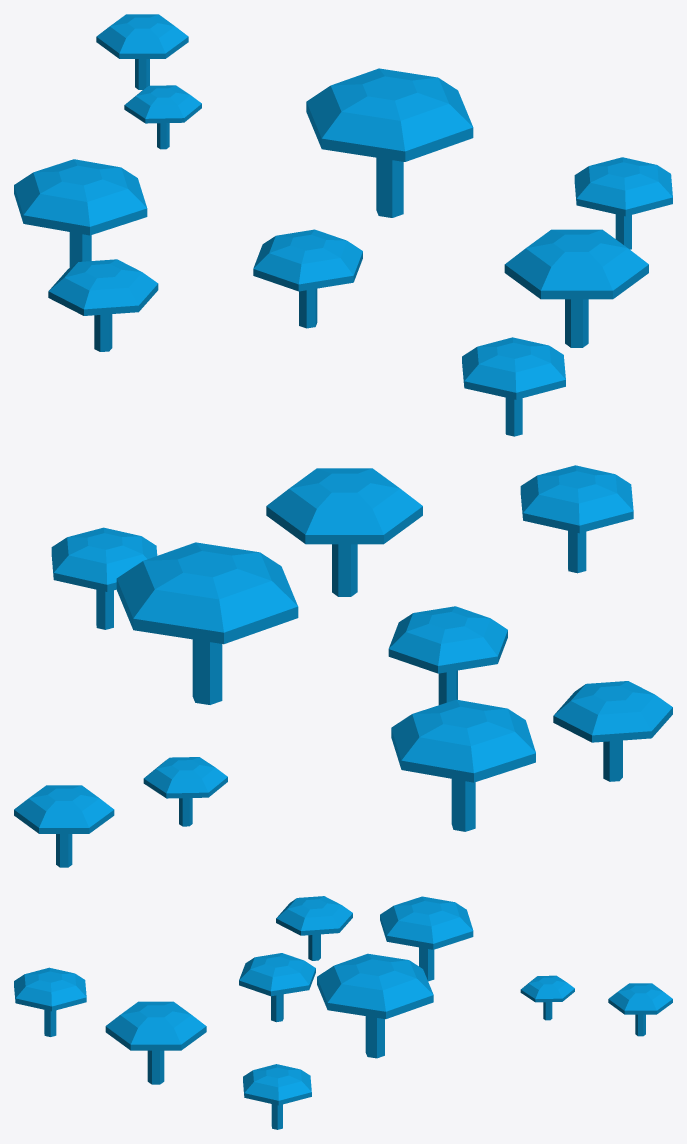
File: Garden_GlowShroom03.fbx
3 renders of one model, top to bottom at view 1: azimuth 30°, elevation 25°; view 2: azimuth 150°, elevation 25°; view 3: azimuth 270°, elevation 25°, orthographic. The views are drawn at different scales.
Visible parts, largest first — view 1: Cylinder.163; view 2: Cylinder.163; view 3: Cylinder.163.
Boxes of the visible parts, box(x1,y1,x2,y2) form: Cylinder.163: box(14, 14, 672, 436); Cylinder.163: box(14, 465, 672, 867); Cylinder.163: box(14, 896, 672, 1129).
Bounding box in the file's own units: 48.24 × 11.61 × 66.97.
